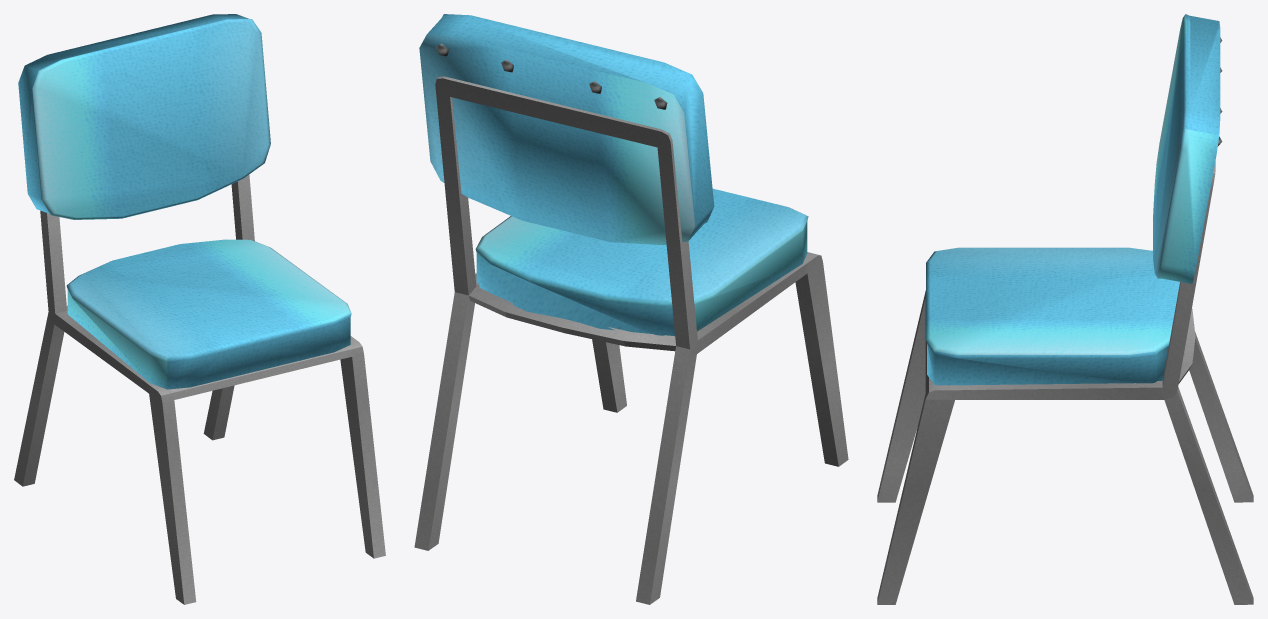
The model's file is Dining_Chair_02.FBX.
3 views of the same model, side by side, from view 1: azimuth 30°, elevation 25°; view 2: azimuth 150°, elevation 25°; view 3: azimuth 270°, elevation 25° (orthographic). The views are drawn at different scales.
Visible parts, largest first — view 1: Dining_Chair; view 2: Dining_Chair; view 3: Dining_Chair.
Part boxes in pixels (x1,y1,x2,y2): Dining_Chair: [14, 14, 385, 604]; Dining_Chair: [414, 14, 848, 604]; Dining_Chair: [877, 14, 1253, 604].
Size of the model in its own units: 102 by 186 by 131.
